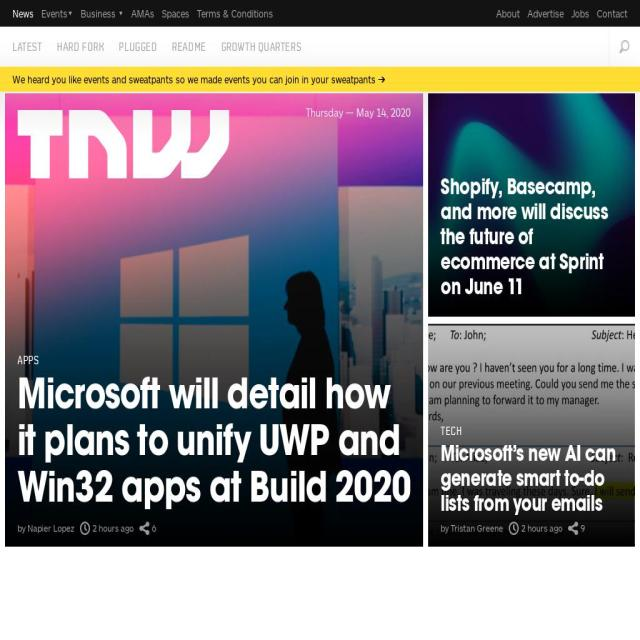button: (213, 34, 308, 60), (195, 3, 277, 26), (53, 34, 109, 62), (114, 35, 162, 60), (76, 3, 129, 25), (522, 3, 565, 28), (7, 34, 48, 60), (594, 1, 632, 28), (166, 36, 210, 59), (612, 31, 638, 64), (38, 3, 76, 24), (157, 0, 193, 22), (5, 2, 38, 26), (490, 3, 520, 26), (128, 1, 156, 23), (567, 4, 591, 27)
image: (6, 92, 422, 546), (428, 91, 635, 316), (428, 325, 635, 546), (619, 38, 629, 58)
link: (331, 74, 386, 88)
text: (11, 353, 413, 537), (434, 170, 616, 304), (440, 422, 620, 539), (12, 70, 388, 90), (302, 105, 414, 122)
